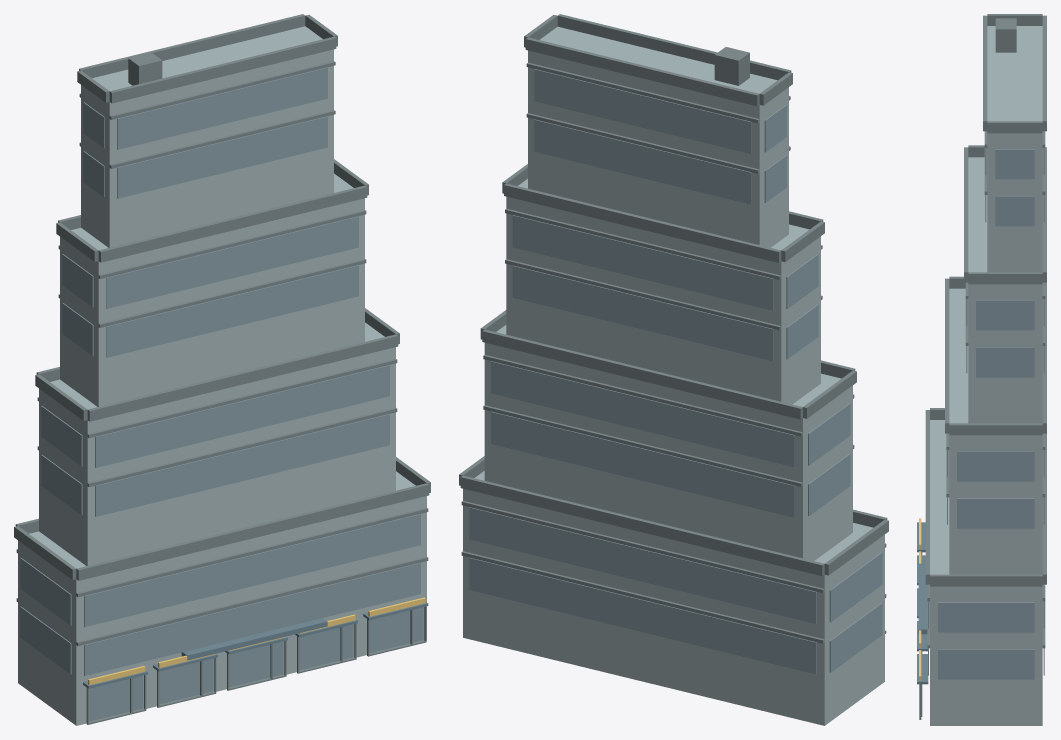
Rendered from commercial_3x1_terraces.glb.
The picture shows the model from 3 angles, left to right: view 1: azimuth 30°, elevation 25°; view 2: azimuth 150°, elevation 25°; view 3: azimuth 270°, elevation 25°; orthographic projection. The views are drawn at different scales.
Parts seen in each view (by area): view 1: commercial_3x1_terraces_0; view 2: commercial_3x1_terraces_0; view 3: commercial_3x1_terraces_0.
Part boxes in pixels (x1,y1,x2,y2): commercial_3x1_terraces_0: (14,14,430,725); commercial_3x1_terraces_0: (459,14,888,725); commercial_3x1_terraces_0: (917,14,1046,725).
Bounding box in the file's own units: 23 × 37.5 × 7.5.
